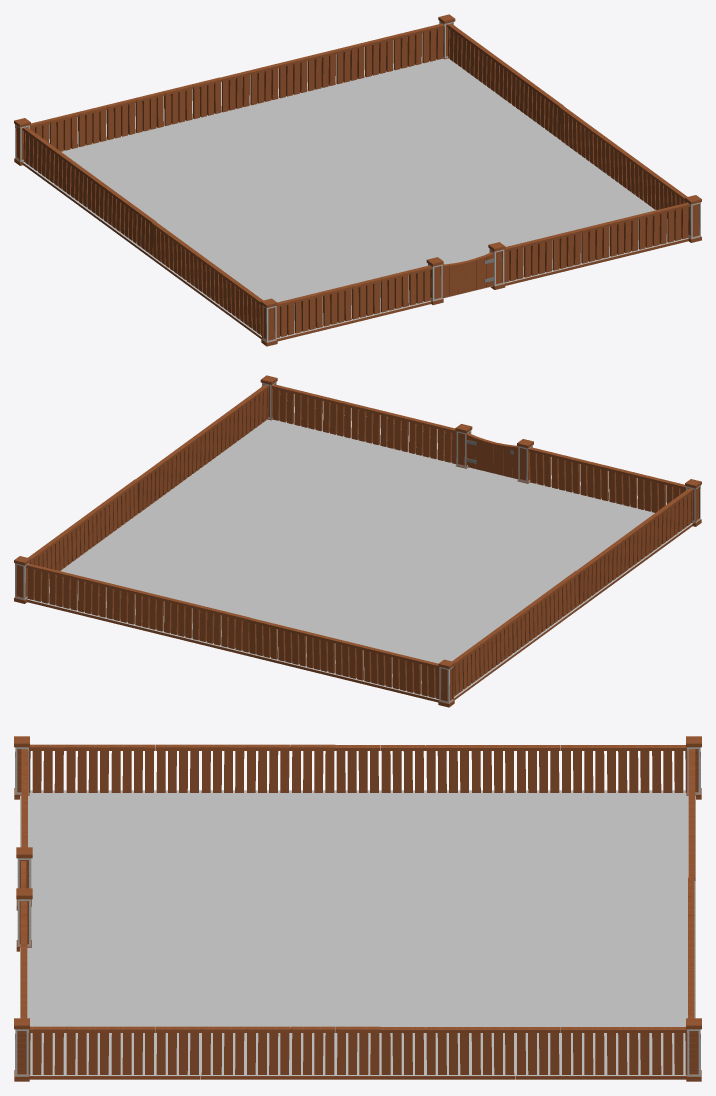
File: 種植地.fbx
3 renders of one model, top to bottom at view 1: azimuth 30°, elevation 25°; view 2: azimuth 150°, elevation 25°; view 3: azimuth 270°, elevation 25°, orthographic. The views are drawn at different scales.
Parts seen in each view (by area): view 1: 草, 柵欄邊, 柵欄門; view 2: 草, 柵欄邊, 柵欄門; view 3: 草, 柵欄邊.
Boxes of the visible parts, x1=… form: 草: x1=23, y1=58, x2=688, y2=338; 柵欄邊: x1=14, y1=14, x2=701, y2=346; 柵欄門: x1=442, y1=252, x2=493, y2=298; 草: x1=27, y1=419, x2=692, y2=699; 柵欄邊: x1=14, y1=375, x2=701, y2=707; 柵欄門: x1=467, y1=433, x2=518, y2=479; 草: x1=20, y1=790, x2=695, y2=1075; 柵欄邊: x1=14, y1=736, x2=701, y2=1081.
Size of the model in its own units: 1519 by 138 by 1526.
